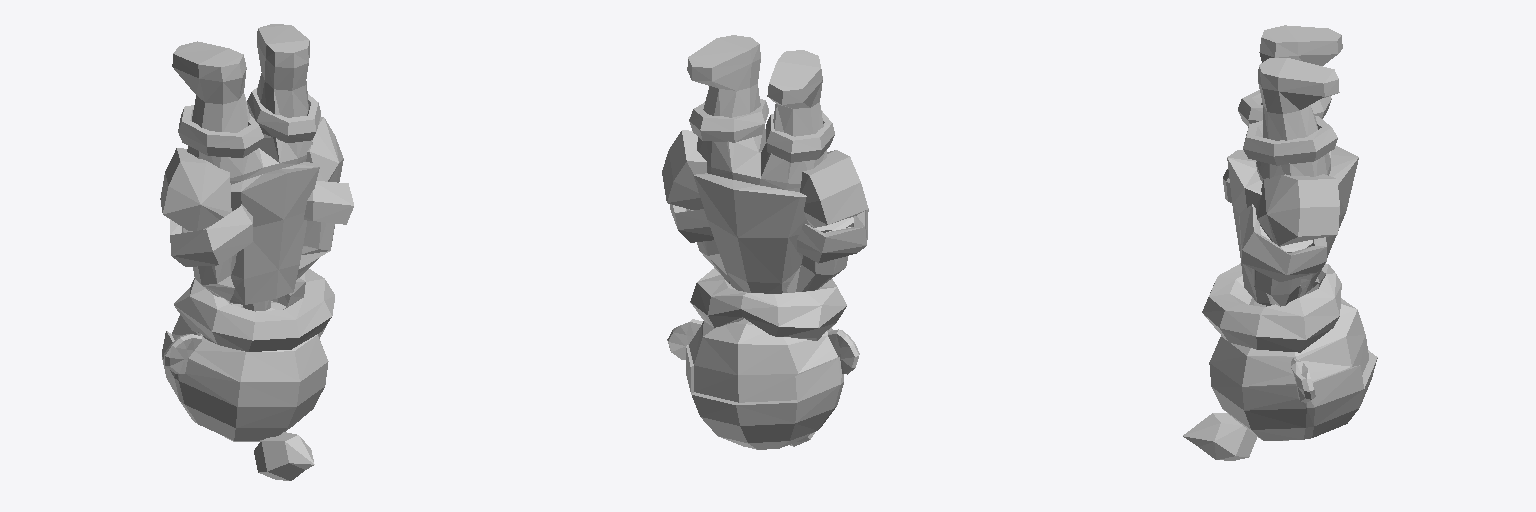
Rendered from eikastanding_000050.obj.
3 renders of one model, left to right at view 1: azimuth 30°, elevation 25°; view 2: azimuth 150°, elevation 25°; view 3: azimuth 270°, elevation 25°, orthographic.
Parts seen in each view (by area): view 1: Cylinder; view 2: Cylinder; view 3: Cylinder.
Part boxes in pixels (x1,y1,x2,y2): Cylinder: (160,24,353,480); Cylinder: (662,35,868,449); Cylinder: (1183,25,1377,460).
Size of the model in its own units: 27.25 by 55.35 by 23.79.